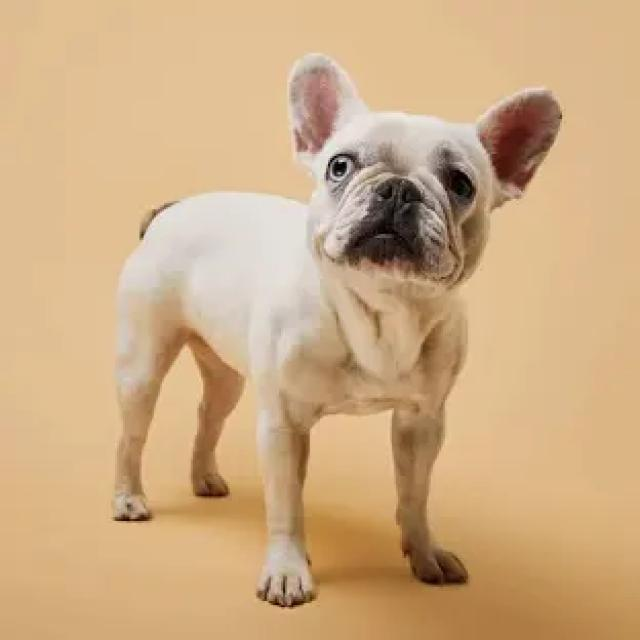dog: (110, 54, 564, 606)
